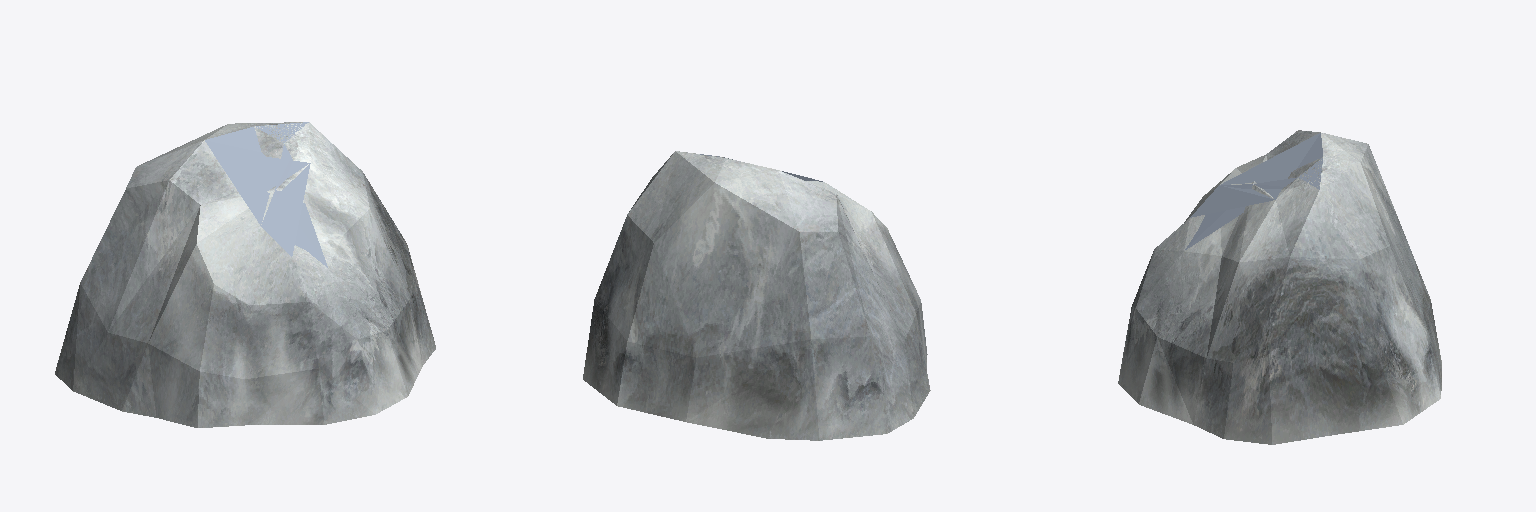
3 renders of one model, left to right at view 1: azimuth 30°, elevation 25°; view 2: azimuth 150°, elevation 25°; view 3: azimuth 270°, elevation 25°, orthographic.
Visible parts, largest first — view 1: boulder, frame_base; view 2: boulder; view 3: boulder, frame_base.
Part boxes in pixels (left/top/right/bottom): boulder: left=55, top=122, right=435, bottom=427; frame_base: left=205, top=122, right=327, bottom=267; boulder: left=583, top=151, right=930, bottom=440; boulder: left=1118, top=130, right=1441, bottom=444; frame_base: left=1185, top=133, right=1322, bottom=249.
Size of the model in its own units: 230 by 145 by 196.
Materials: 2 (1 with a texture image).